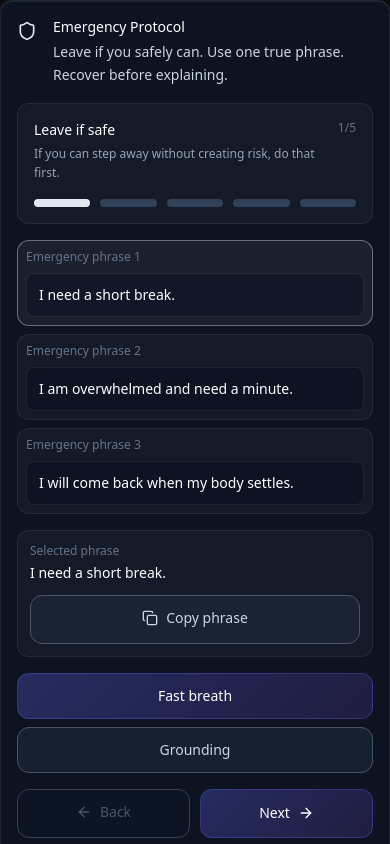
Test: EmergencyProtocolPanel › edits and restores starter phrases
This screenshot has width=390, height=844.
Replace the text in the field labelled "Emergency phrase 1" with "I need quiet now." at {"x": 195, "y": 294}, box [26, 272, 364, 316]
(page scrolled)
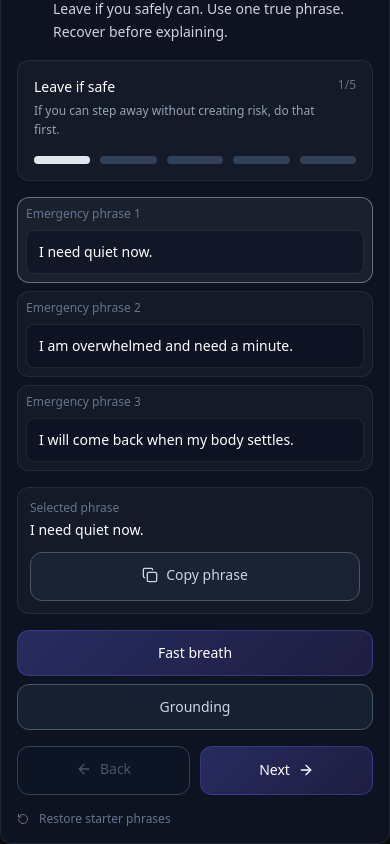
Expected: the text "I need quiet now." is shown, [30, 520, 144, 538]
Click the button "Restore starter phrases" at {"x": 105, "y": 818}, box [17, 810, 373, 826]
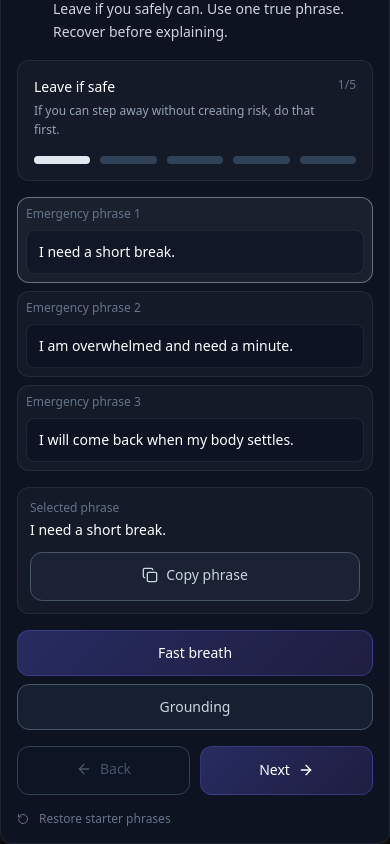
Expected: the text "I need a short break." is shown, [30, 520, 166, 538]
